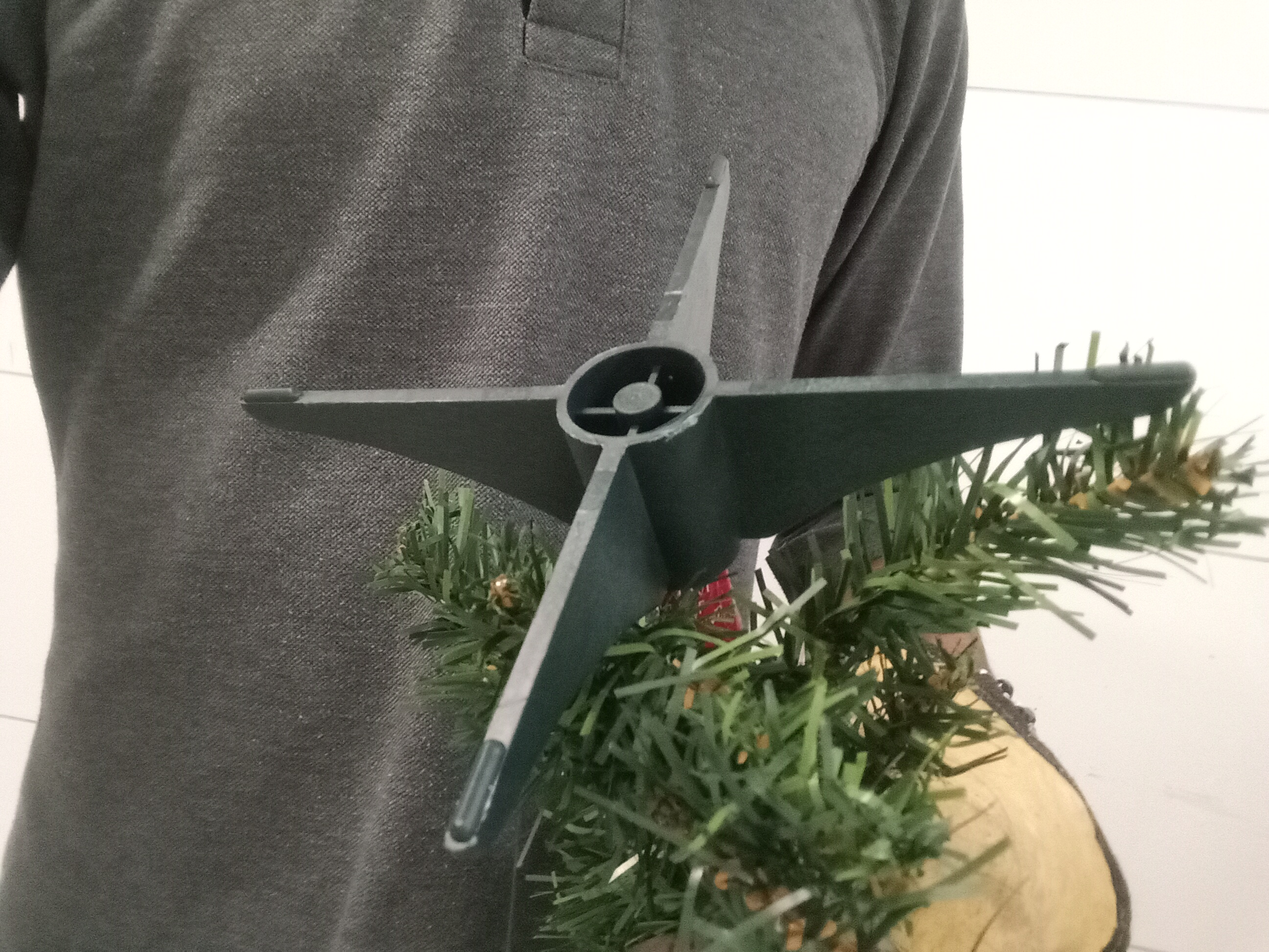Ordinario: (243, 155, 1266, 952)
